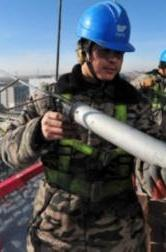hard-hat: (75, 0, 134, 52)
ppe-suit: (0, 63, 162, 251)
